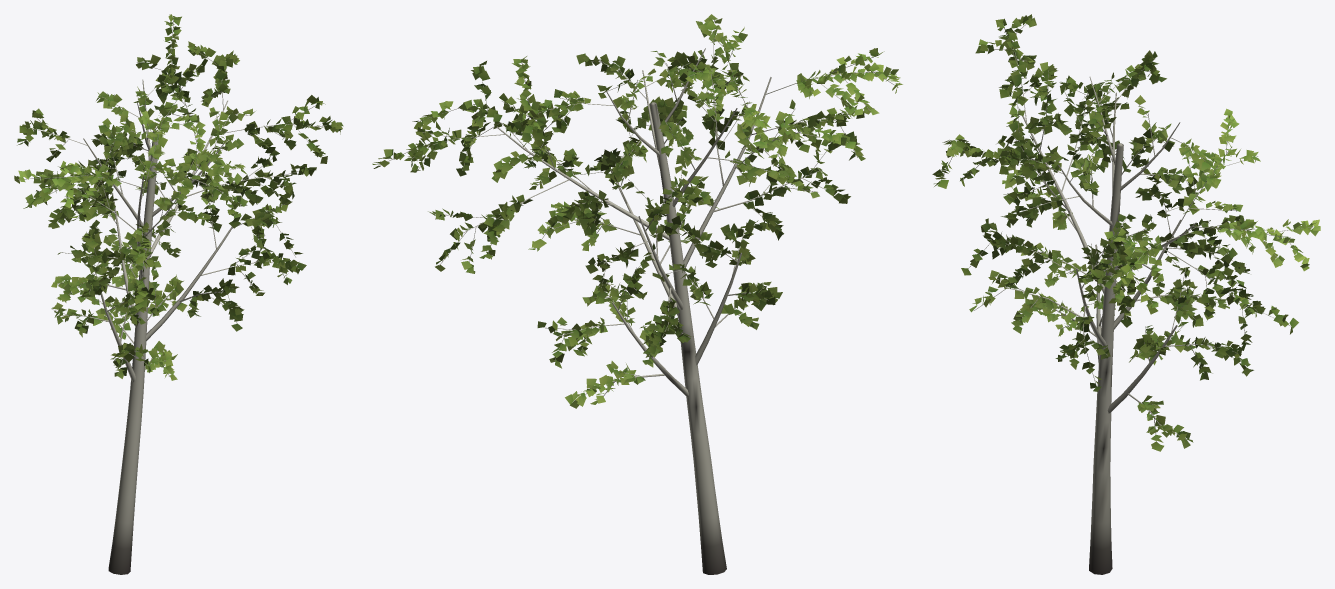
The model's file is birch-b.lod0.glb.
3 renders of one model, left to right at view 1: azimuth 30°, elevation 25°; view 2: azimuth 150°, elevation 25°; view 3: azimuth 270°, elevation 25°, orthographic. The views are drawn at different scales.
Size of the model in its own units: 7.04 by 8.51 by 5.77.
